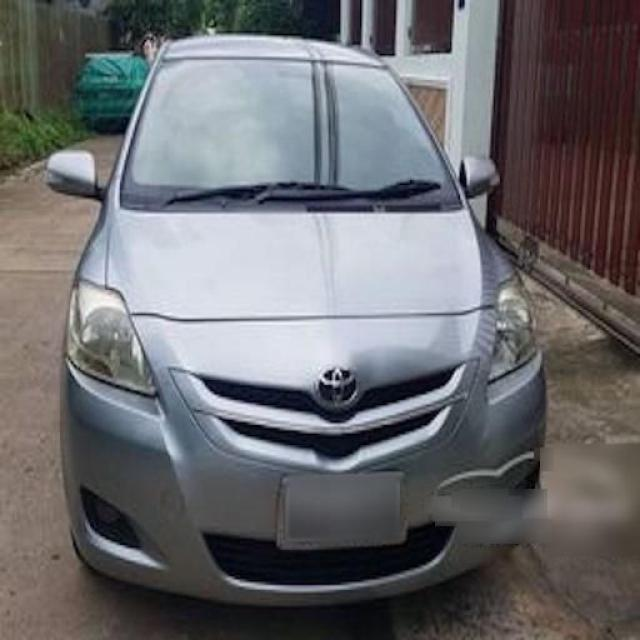front_bumper: (60, 306, 549, 606)
front_glass: (121, 58, 465, 215)
front_left_light: (489, 271, 538, 386)
front_right_light: (66, 279, 161, 398)
hood: (106, 207, 504, 321)
left_mirror: (460, 157, 501, 200)
right_mirror: (46, 152, 104, 202)
